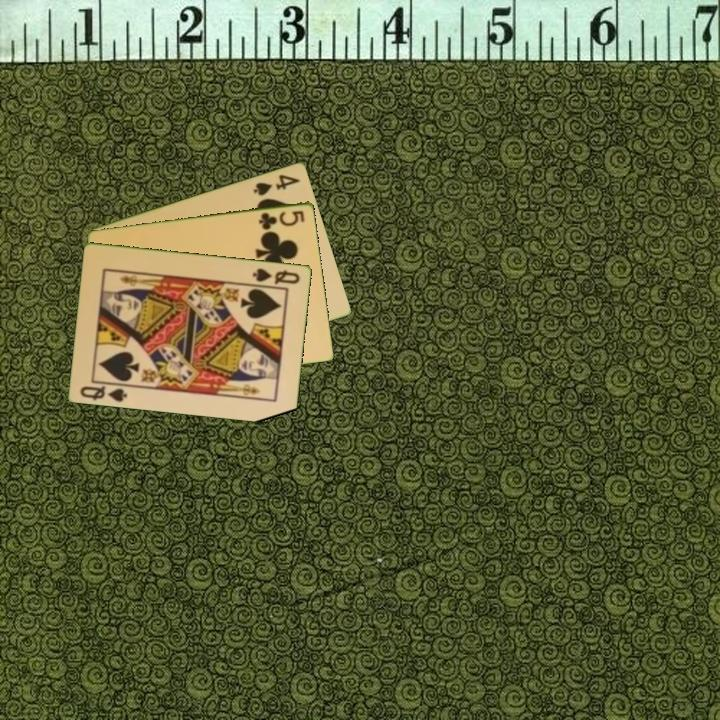4s: (250, 170, 303, 198)
5c: (255, 206, 308, 232)
Qs: (249, 264, 303, 287), (77, 382, 130, 404)
